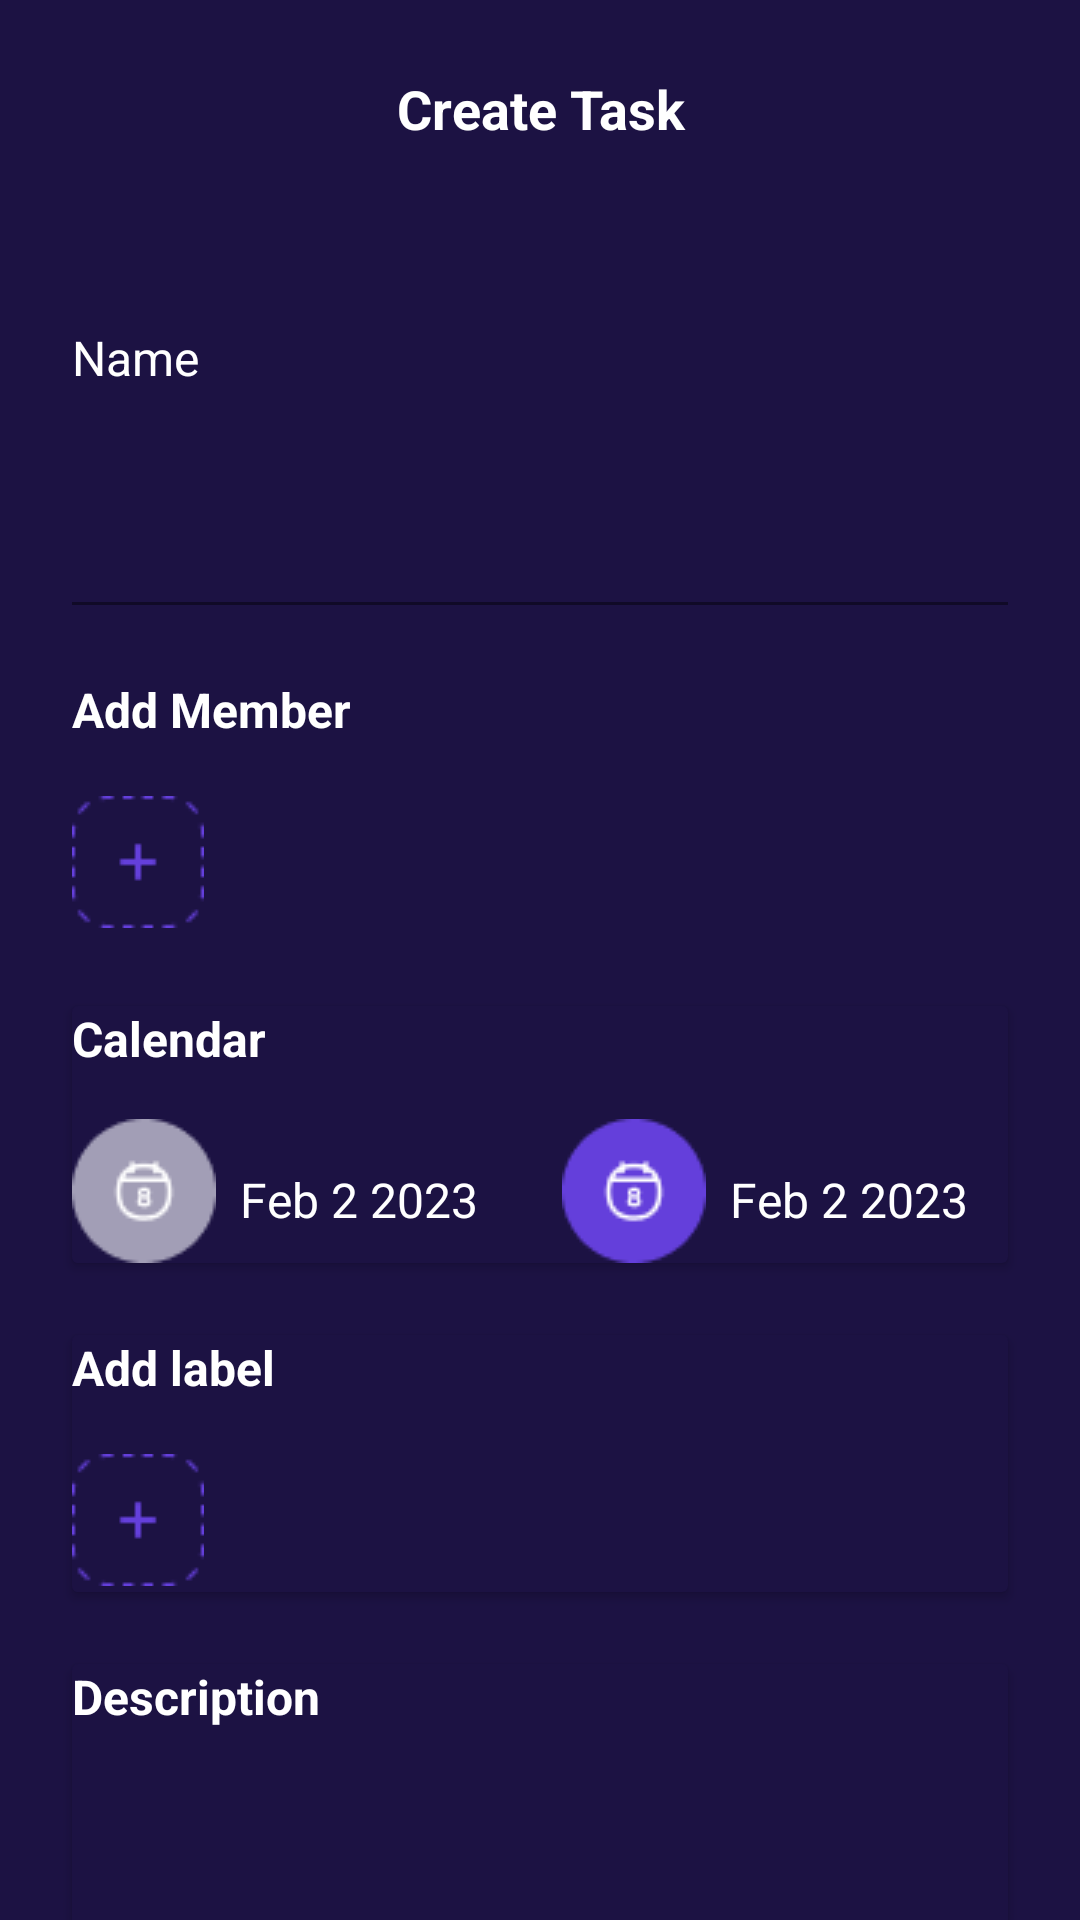

Point at icon controls on the screen. Image size 1080×1920, points as point (x, y).
figma locker: point (144, 1191)
figma locker finish: point (634, 1191)
figma plus: point (138, 862), point (138, 1520)
